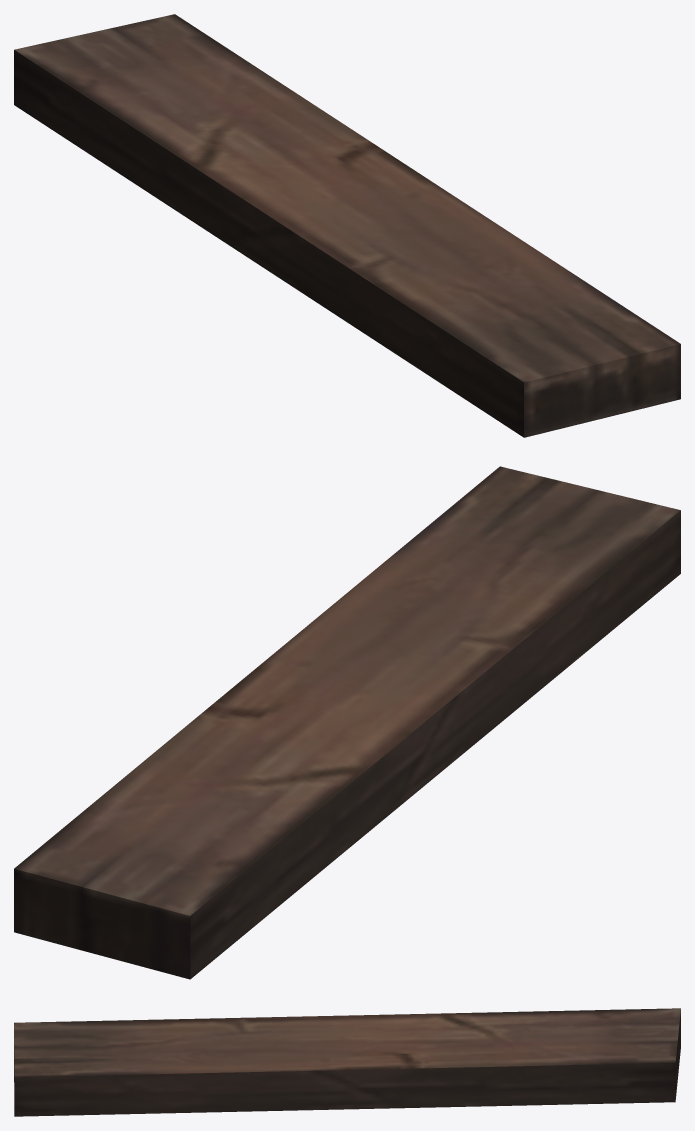
The model's file is muban.FBX.
3 views of the same model, one above another, from view 1: azimuth 30°, elevation 25°; view 2: azimuth 150°, elevation 25°; view 3: azimuth 270°, elevation 25° (orthographic). The views are drawn at different scales.
Visible parts, largest first — view 1: muban; view 2: muban; view 3: muban.
Part boxes in pixels (box(x1,y1,x2,y2)): muban: box(14, 14, 680, 437); muban: box(14, 466, 680, 979); muban: box(14, 1008, 680, 1116).
Bounding box in the file's own units: 78.08 × 20.77 × 319.
